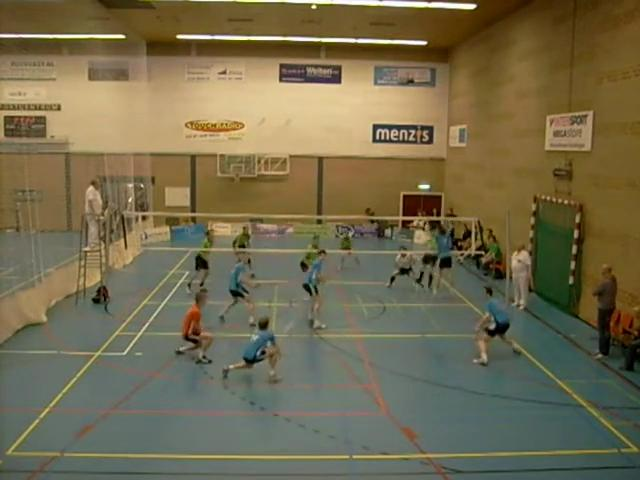Attack: (414, 224, 439, 294)
Block: (428, 216, 462, 296)
Dig: (217, 314, 290, 389)
Player: (474, 286, 520, 365), (175, 289, 212, 363), (219, 256, 255, 325), (302, 249, 326, 329), (187, 230, 212, 293), (232, 225, 254, 277), (387, 246, 414, 287), (338, 231, 359, 269), (300, 234, 319, 271)
ball: (280, 322, 296, 338)
